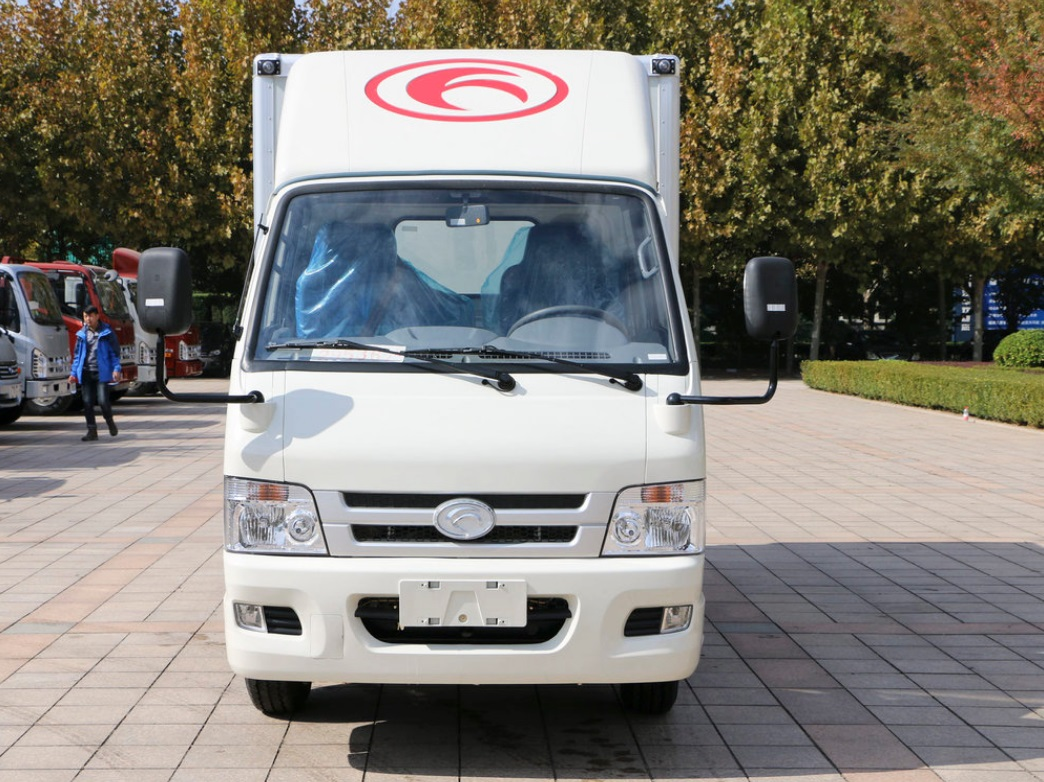truck: (135, 44, 802, 720)
